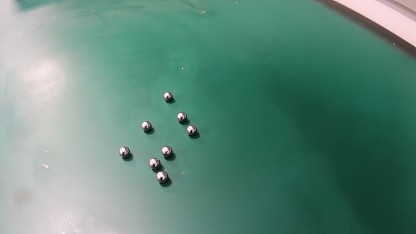ironball: (156, 170, 169, 183), (148, 157, 161, 169), (118, 146, 130, 158), (161, 145, 172, 157), (141, 120, 152, 131), (186, 125, 197, 135), (163, 91, 173, 101), (177, 112, 187, 122)
